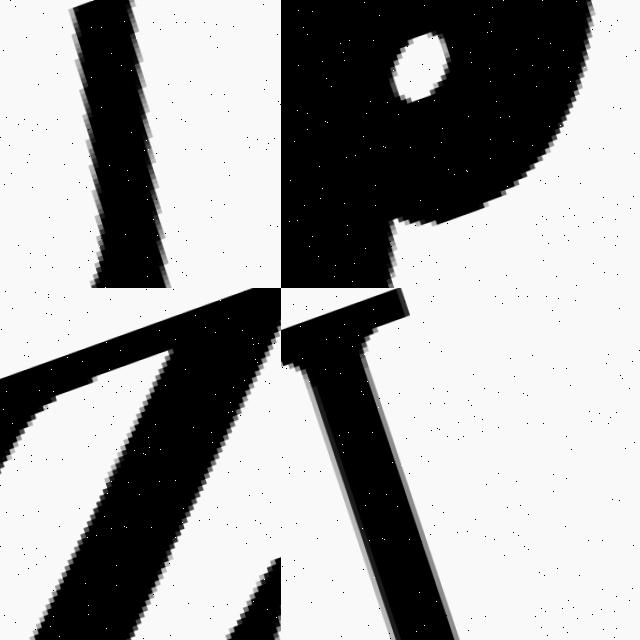D: (281, 0, 640, 288)
H: (0, 0, 281, 288)
L: (281, 288, 575, 640)
Z: (0, 288, 281, 640)
